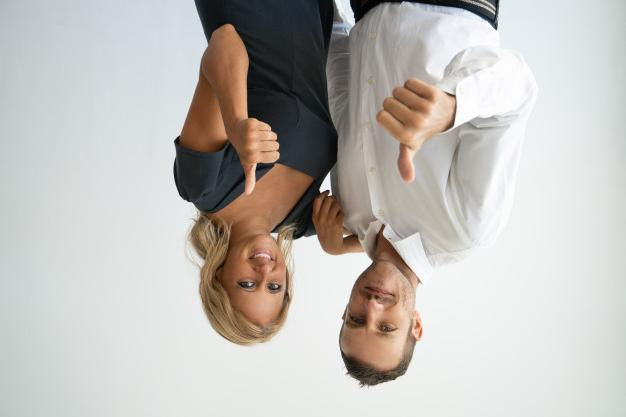thumbsdown: (376, 78, 438, 182), (239, 118, 280, 195)
